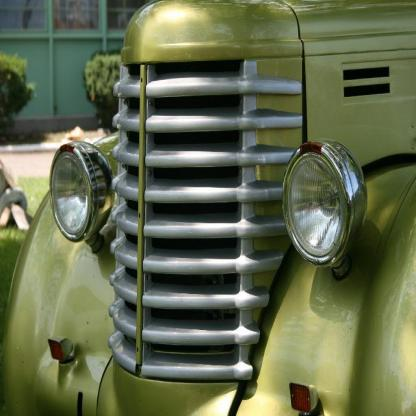Car: (18, 16, 356, 416)
